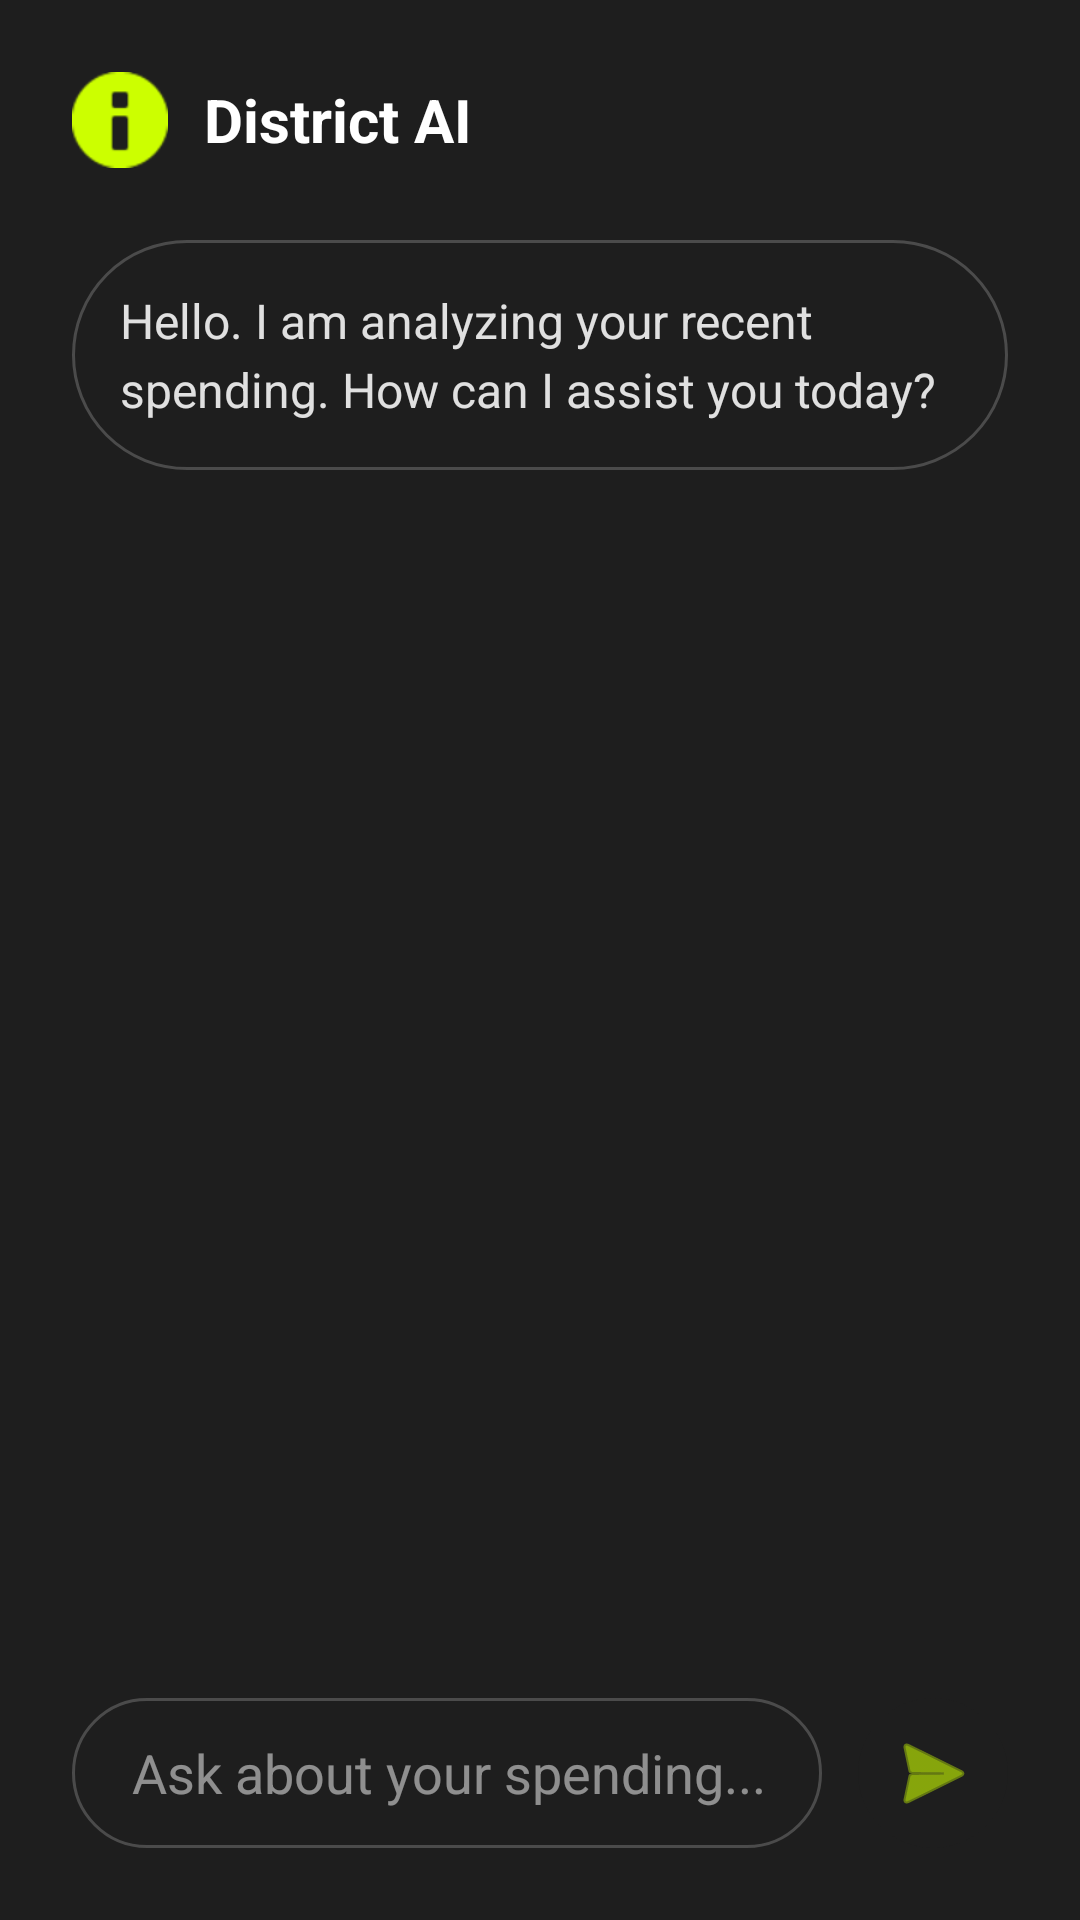

Icons on this 1080w x 1920h Android screen, each with the point to tap as point (x, y):
info: point (120, 120)
send: point (934, 1773)
